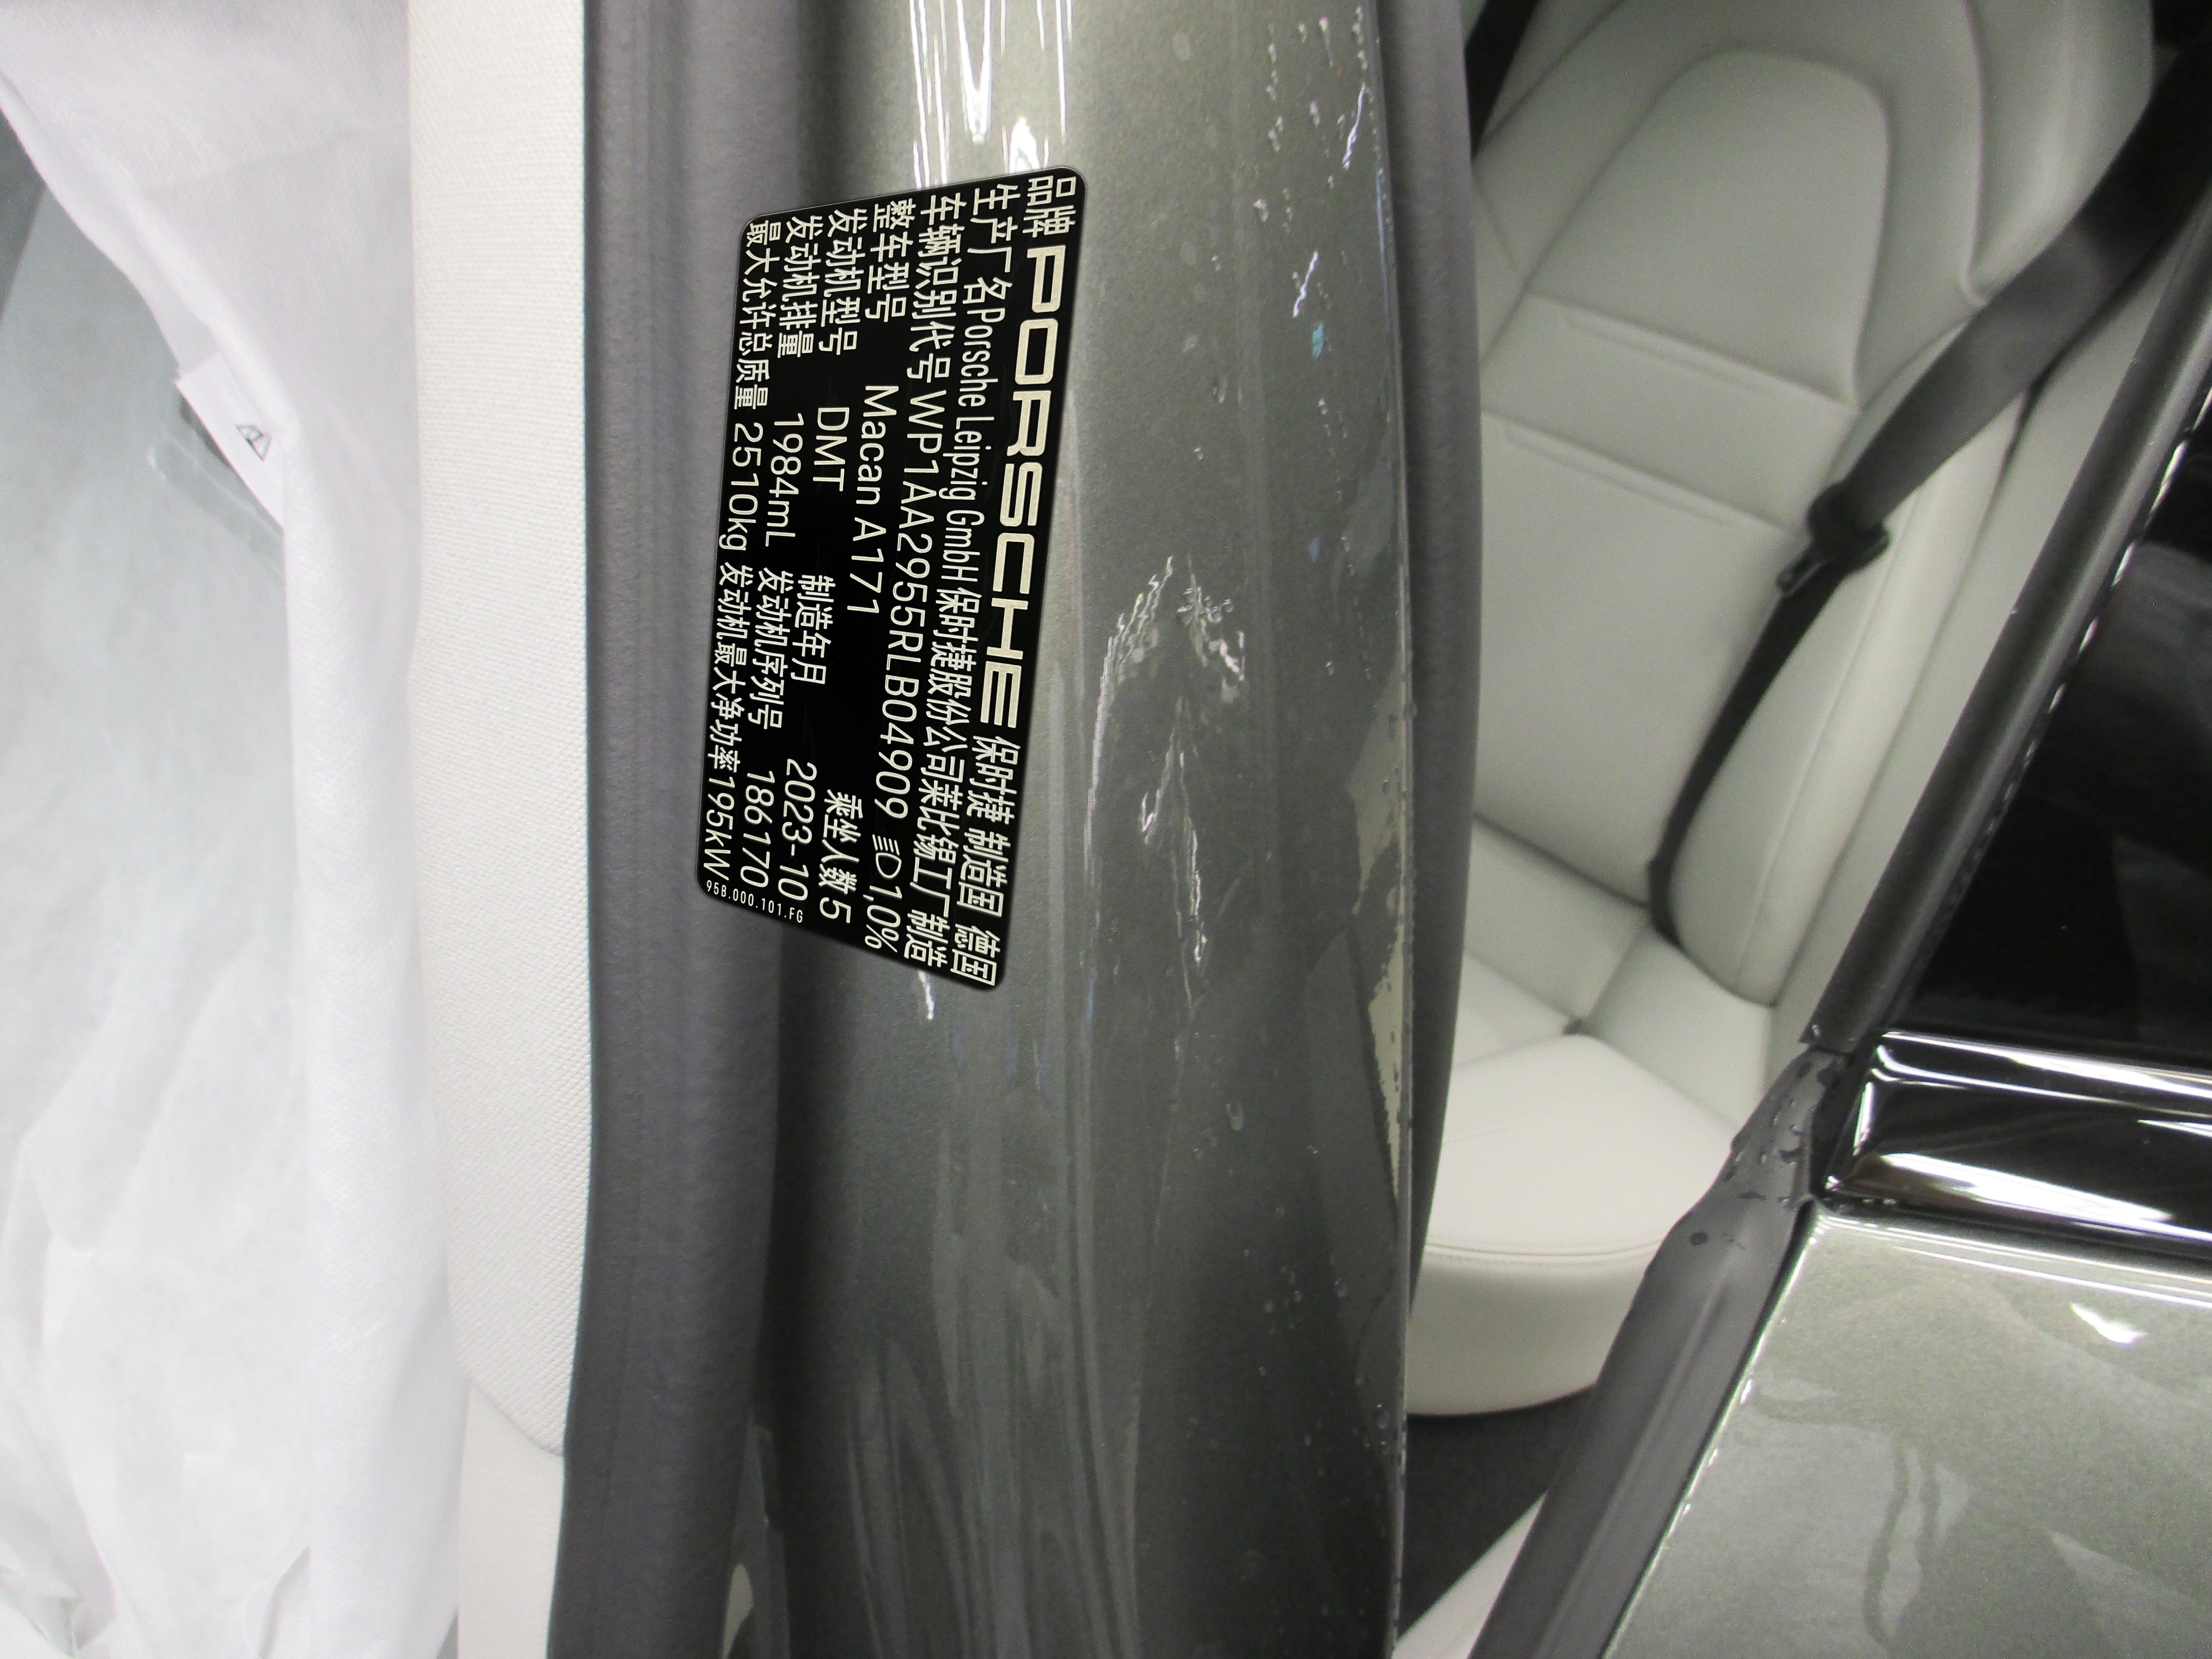Typlabel-China: (697, 167, 1085, 990)
